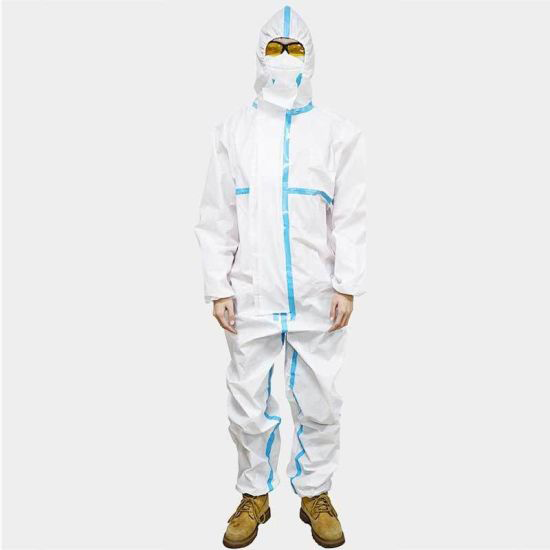Coverall: (194, 5, 364, 505)
Goggles: (262, 36, 307, 60)
with_mask: (258, 59, 307, 98)
